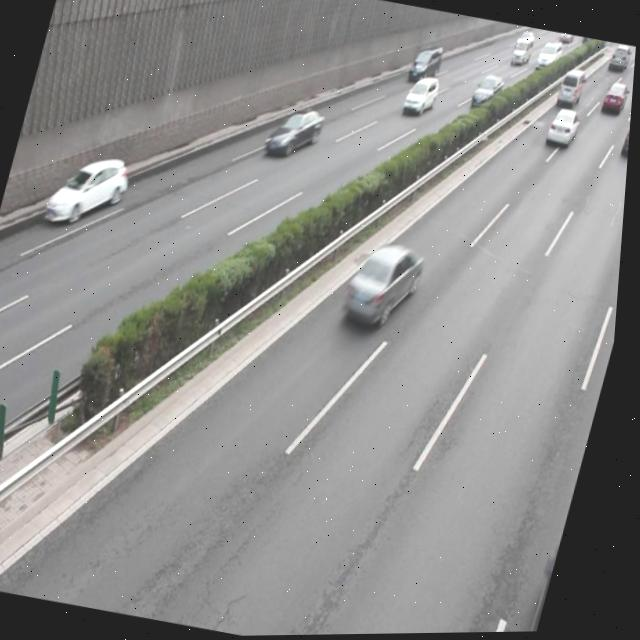car: (341, 236, 431, 334), (44, 146, 136, 236), (525, 529, 572, 633), (265, 103, 327, 163)
